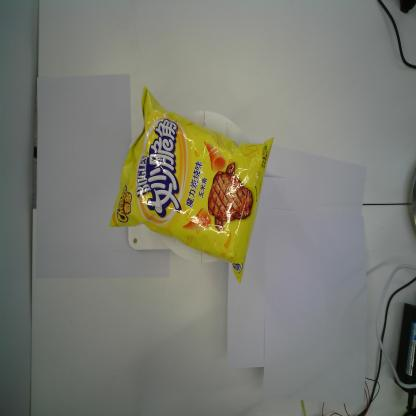Puffed Food: (105, 85, 274, 286)
